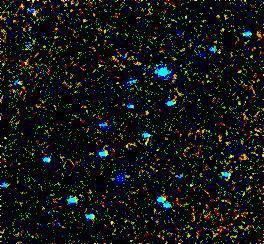star: (185, 36, 215, 66)
